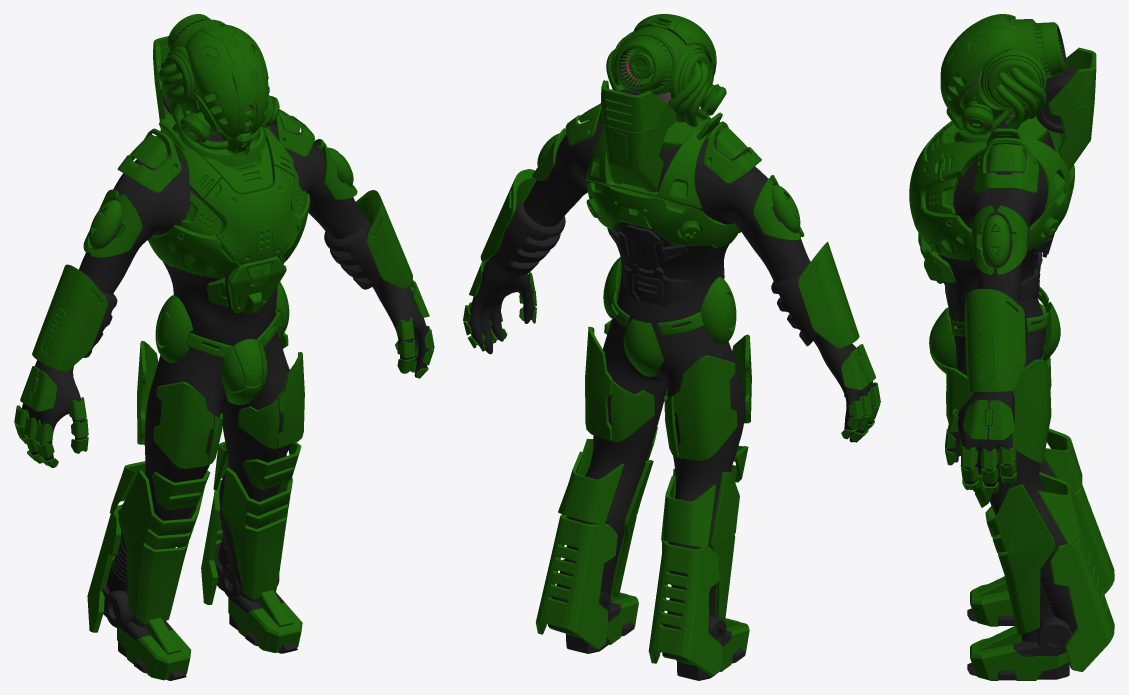
File: Ch_no_weapon.fbx
3 renders of one model, left to right at view 1: azimuth 30°, elevation 25°; view 2: azimuth 150°, elevation 25°; view 3: azimuth 270°, elevation 25°, orthographic.
Parts seen in each view (by area): view 1: BODY_ALIEN_HORROR, CHEST.003_Roundcube.013, SHIN_L.003_Cube.001, GLASS_Roundcube.005, SHIN_L.001_Cube.007, THIGH_R.001_Cube.005, HIP_Roundcube.004, FOREARM.001_Cylinder.001, FOREARM.002_Cylinder.002, HELMET.BASE_Roundcube.006, LTURBIN.001_Cube.053, THIGH_R.003_Cube.041 (+13 smaller); view 2: BODY_ALIEN_HORROR, CHEST.003_Roundcube.013, LTURBIN.001_Cube.053, LTURBIN.002_Cube.006, THIGH_R.001_Cube.005, NECK_Cube.002, HELMET.BASE_Roundcube.006, SHIN_L.003_Cube.001, FOREARM.001_Cylinder.001, HIP_Roundcube.004, THIGH_R.003_Cube.041, SHIN_L.001_Cube.007 (+11 smaller); view 3: BODY_ALIEN_HORROR, CHEST.003_Roundcube.013, SHIN_L.001_Cube.007, LTURBIN.002_Cube.006, HELMET.BASE_Roundcube.006, FOREARM.002_Cylinder.002, NECK_Cube.002, THIGH_R.003_Cube.041, GLASS_Roundcube.005, R_FOOT_Cube.049, ARMOR.002_Cylinder.006, ARMOR_Cube.016 (+10 smaller).
Part boxes in pixels (<box>): BODY_ALIEN_HORROR: <box>20,124,430,628</box>; CHEST.003_Roundcube.013: <box>148,121,309,278</box>; SHIN_L.003_Cube.001: <box>109,461,204,624</box>; GLASS_Roundcube.005: <box>185,24,269,139</box>; SHIN_L.001_Cube.007: <box>213,441,292,599</box>; THIGH_R.001_Cube.005: <box>137,341,223,468</box>; HIP_Roundcube.004: <box>155,282,289,404</box>; FOREARM.001_Cylinder.001: <box>32,264,117,371</box>; FOREARM.002_Cylinder.002: <box>324,190,412,289</box>; HELMET.BASE_Roundcube.006: <box>163,14,279,153</box>; LTURBIN.001_Cube.053: <box>87,504,133,632</box>; THIGH_R.003_Cube.041: <box>238,332,304,448</box>; BODY_ALIEN_HORROR: <box>468,114,876,616</box>; CHEST.003_Roundcube.013: <box>586,112,741,248</box>; LTURBIN.001_Cube.053: <box>648,540,726,676</box>; LTURBIN.002_Cube.006: <box>535,514,617,649</box>; THIGH_R.001_Cube.005: <box>664,334,751,460</box>; NECK_Cube.002: <box>601,80,676,192</box>; HELMET.BASE_Roundcube.006: <box>610,26,726,119</box>; SHIN_L.003_Cube.001: <box>661,468,739,621</box>; FOREARM.001_Cylinder.001: <box>771,241,859,348</box>; HIP_Roundcube.004: <box>603,257,736,376</box>; THIGH_R.003_Cube.041: <box>585,319,667,441</box>; SHIN_L.001_Cube.007: <box>558,438,653,597</box>; BODY_ALIEN_HORROR: <box>931,117,1066,641</box>; CHEST.003_Roundcube.013: <box>909,116,1074,260</box>; SHIN_L.001_Cube.007: <box>985,472,1082,635</box>; LTURBIN.002_Cube.006: <box>1037,532,1114,671</box>; HELMET.BASE_Roundcube.006: <box>946,19,1066,135</box>; FOREARM.002_Cylinder.002: <box>964,289,1027,392</box>; NECK_Cube.002: <box>1036,47,1096,170</box>; THIGH_R.003_Cube.041: <box>946,359,1051,462</box>; GLASS_Roundcube.005: <box>940,14,1015,117</box>; R_FOOT_Cube.049: <box>967,625,1069,680</box>; ARMOR.002_Cylinder.006: <box>971,205,1028,274</box>; ARMOR_Cube.016: <box>974,137,1039,193</box>.
Size of the model in its own units: 1399 by 2102 by 625.
